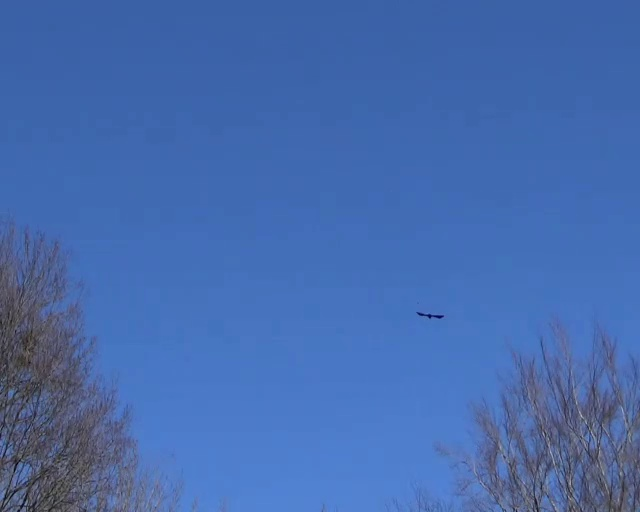BIRD: (416, 311, 444, 320)
